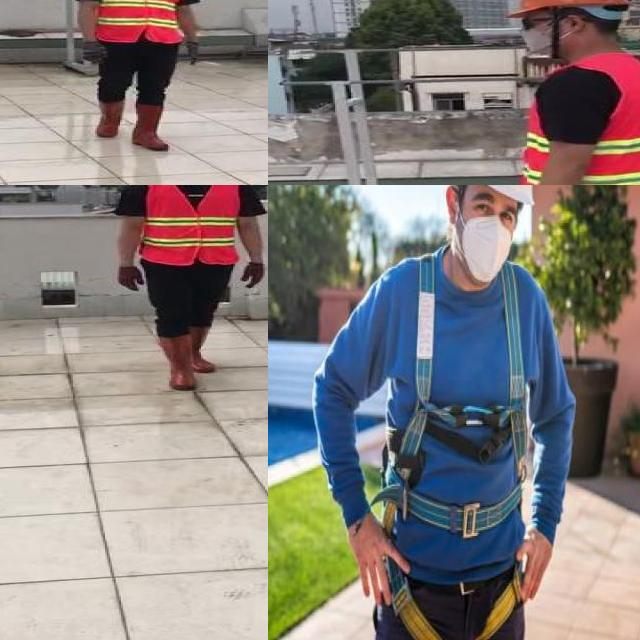Harness: (373, 255, 528, 540), (385, 558, 528, 640)
boots: (156, 336, 198, 391), (132, 103, 168, 151), (187, 324, 219, 373), (92, 96, 125, 138)
face_mask: (514, 11, 567, 54)
hand_glove: (118, 267, 150, 291), (76, 39, 106, 64), (242, 263, 267, 291), (186, 40, 200, 64)
head_helmet: (508, 0, 629, 14)
person: (107, 185, 268, 394), (479, 0, 640, 185), (56, 0, 216, 161)
vest: (512, 55, 640, 185), (136, 185, 238, 267), (93, 0, 182, 44)
